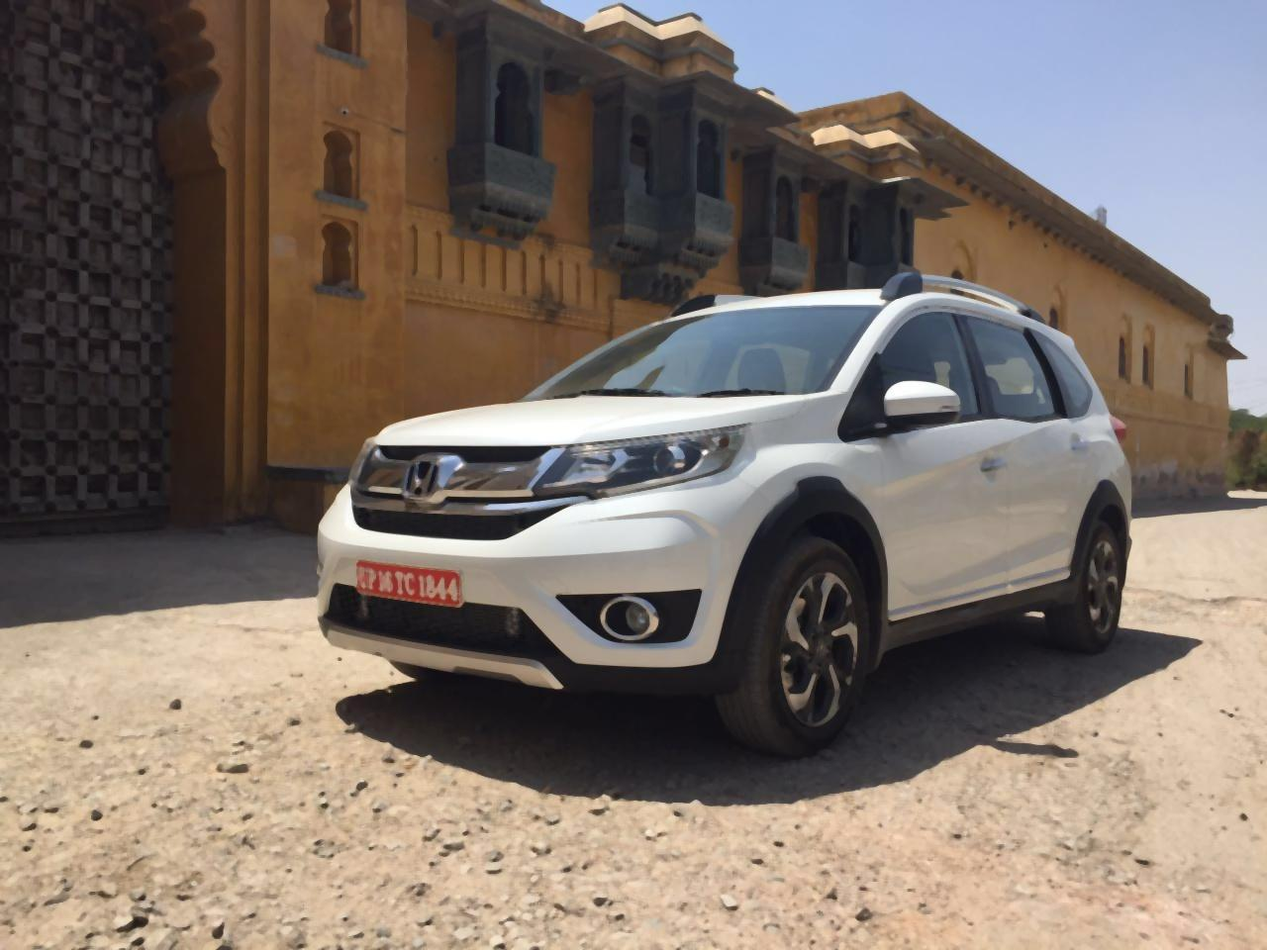Car hood: (363, 384, 805, 460)
Fender - -F-L-: (735, 351, 889, 583)
Front bumper: (311, 474, 761, 703)
Headlight - -L-: (532, 426, 748, 505)
Passenger-s door - -F-L-: (849, 289, 1013, 652)
Passenger-s door - -R-L-: (962, 286, 1091, 628)
Side bumper - -L-: (869, 549, 1076, 684)
Side mirror - -L-: (865, 373, 963, 448)
